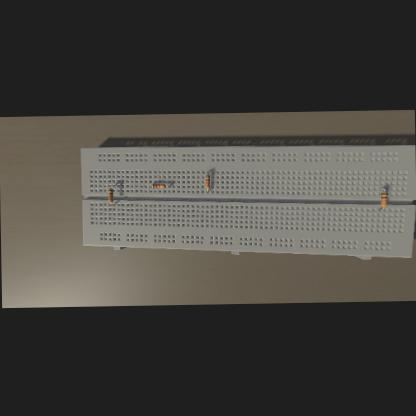breadboard: (81, 140, 416, 264)
resistor: (380, 190, 388, 206), (108, 188, 113, 201), (152, 183, 166, 187), (206, 174, 210, 188)
wire: (378, 206, 384, 208), (380, 188, 385, 190), (110, 184, 114, 186), (111, 202, 115, 204), (150, 184, 152, 186), (166, 185, 170, 186), (208, 170, 209, 173), (207, 188, 208, 190)
